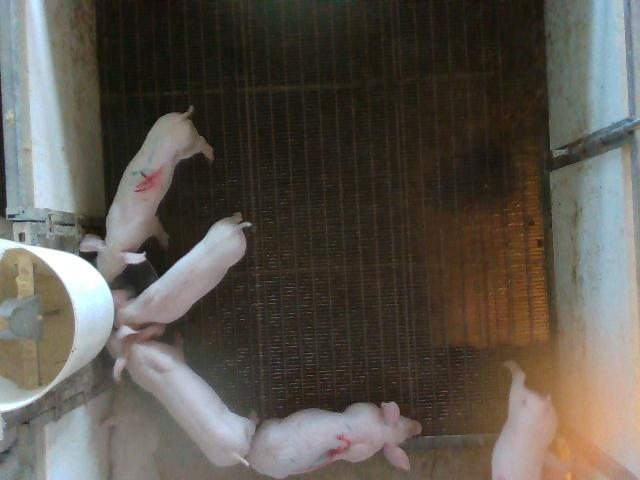pig-3: (246, 402, 421, 478)
pig-4: (81, 108, 214, 281)
